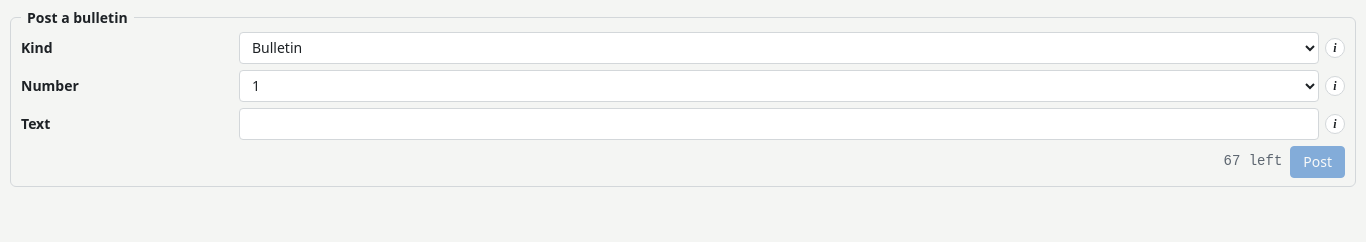
Test: BulletinCompose › labels the kind and the number (a letter for an announcement)
Expected: the label "Kind" is shown, [21,38,53,57]
Expected: the label "Number" is shown, [21,76,79,95]
Select "Announcement" in the dropdown labelled "Kind" at (779, 48), box [239,32,1319,64]
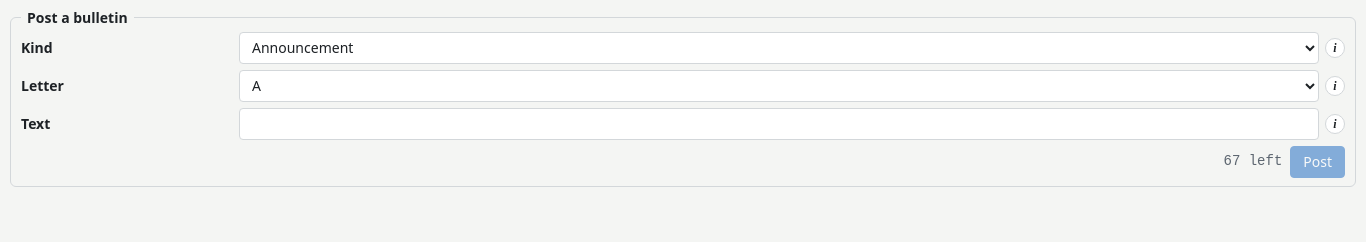
Result: the label "Letter" is shown at [21,76,64,95]
Select "Bulletin to a group" in the dropdown labelled "Kind" at (779, 48), box [239,32,1319,64]
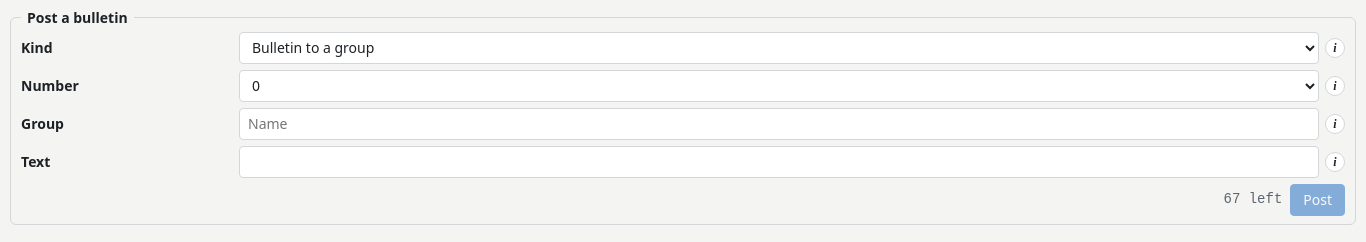
Result: the label "Group" is shown at [21,114,64,133]
